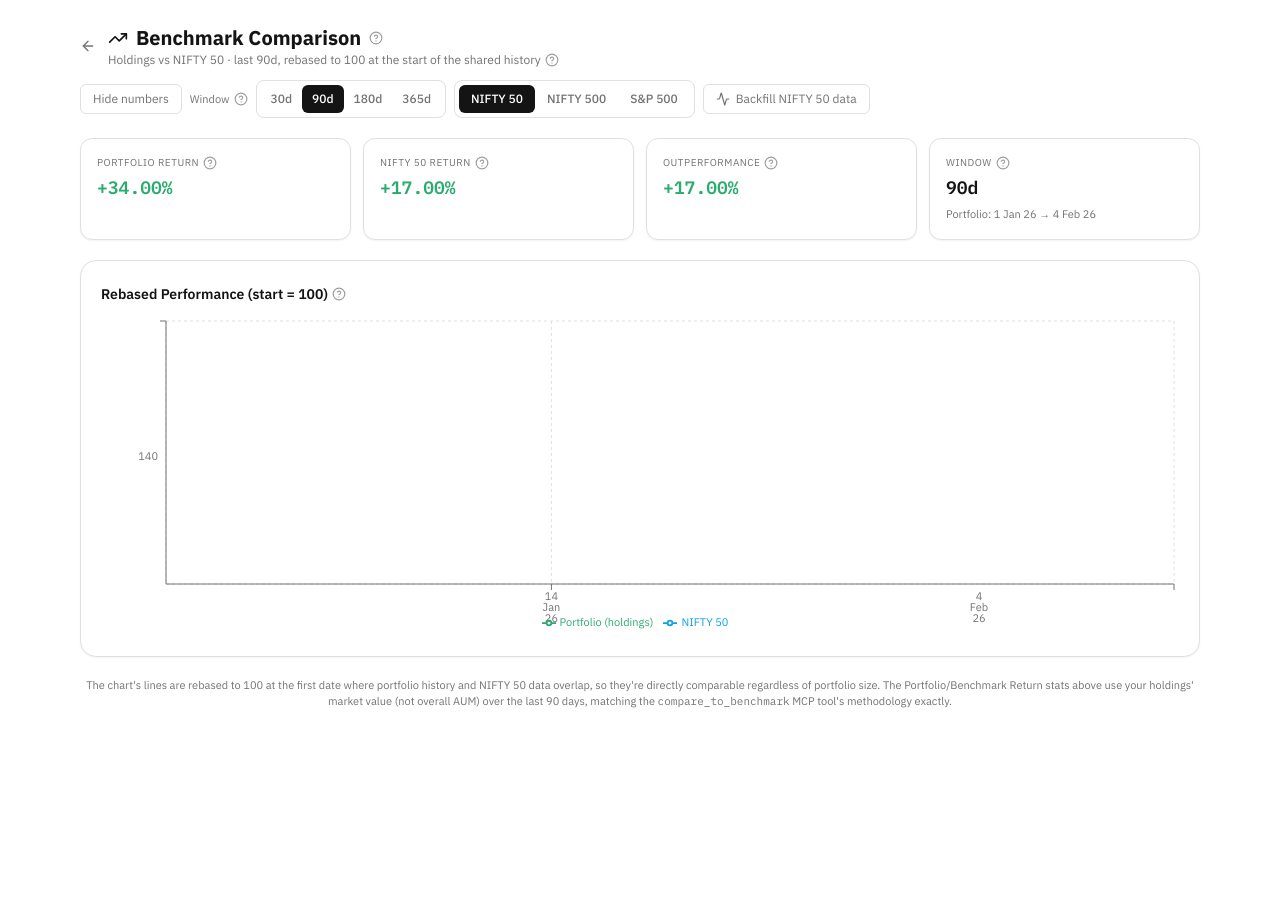
Test: Benchmark page › recomputes over a narrower window when a shorter lookback is selected
Expected: the text "Portfolio Return" is shown, [97,155,217,170]
Expected: the text "+34.00%" is shown, [97,176,173,199]
Click the button "30d". click: (281, 99)
box: [260,85,302,113]
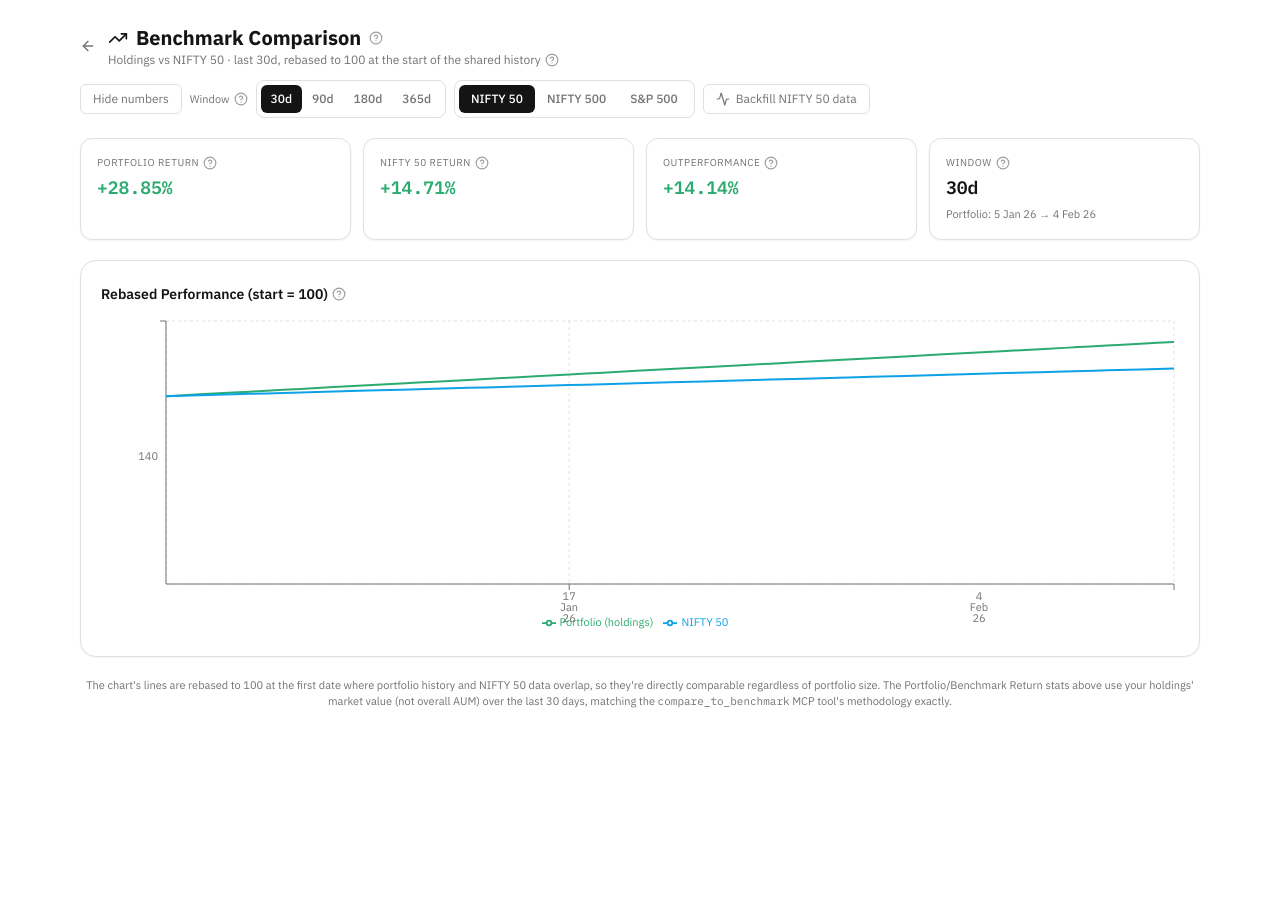
Expected: the text "+28.85%" is shown, [97,176,173,199]
